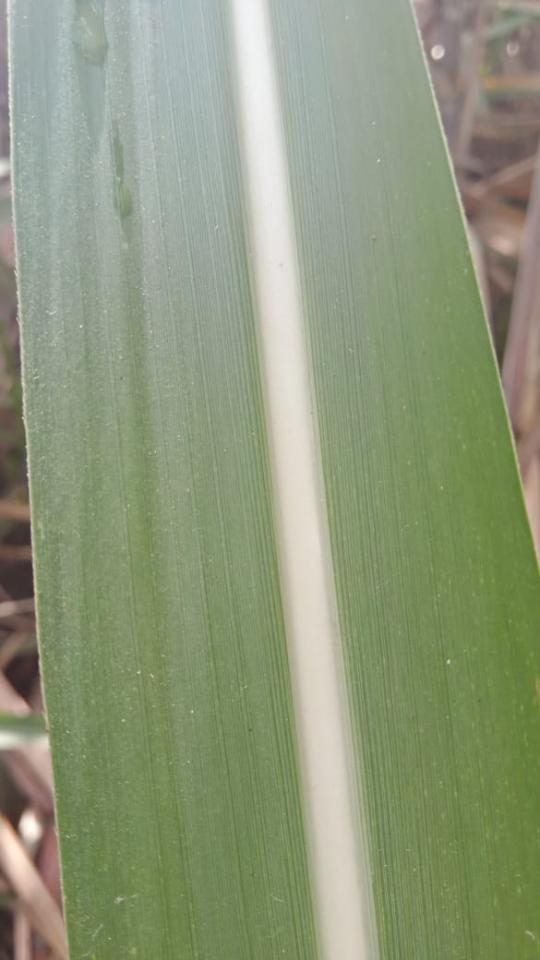Healthy: (5, 0, 539, 959)
